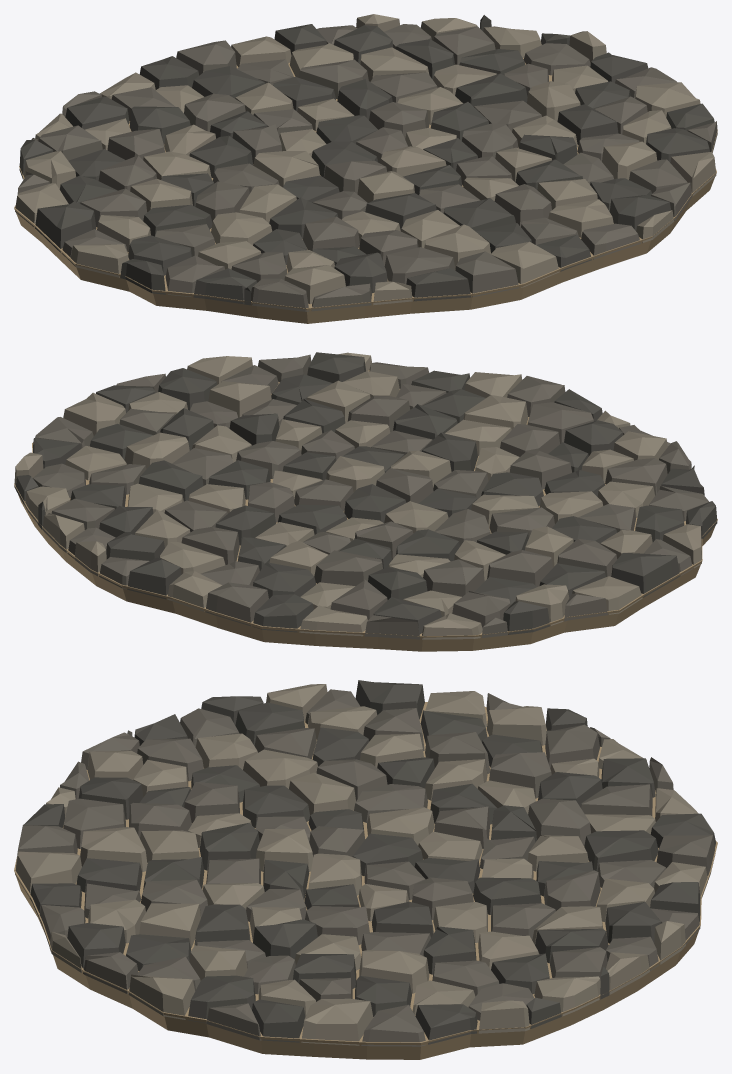
3 views of the same model, one above another, from view 1: azimuth 30°, elevation 25°; view 2: azimuth 150°, elevation 25°; view 3: azimuth 270°, elevation 25° (orthographic). The views are drawn at different scales.
Visible parts, largest first — view 1: densely_fitted_original_angular_clasts.002, densely_fitted_original_angular_clasts, densely_fitted_original_angular_clasts.001, thin_closed_sandy_substrate; view 2: densely_fitted_original_angular_clasts.002, densely_fitted_original_angular_clasts, densely_fitted_original_angular_clasts.001, thin_closed_sandy_substrate; view 3: densely_fitted_original_angular_clasts.001, densely_fitted_original_angular_clasts.002, densely_fitted_original_angular_clasts, thin_closed_sandy_substrate.
Boxes of the visible parts, box(x1,y1,x2,y2) form: densely_fitted_original_angular_clasts.002: box(19, 15, 714, 305); densely_fitted_original_angular_clasts: box(17, 24, 717, 311); densely_fitted_original_angular_clasts.001: box(15, 14, 716, 305); thin_closed_sandy_substrate: box(14, 58, 717, 323); densely_fitted_original_angular_clasts.002: box(15, 352, 717, 634); densely_fitted_original_angular_clasts: box(33, 354, 709, 639); densely_fitted_original_angular_clasts.001: box(14, 352, 701, 639); thin_closed_sandy_substrate: box(14, 370, 717, 651); densely_fitted_original_angular_clasts.001: box(15, 684, 707, 1045); densely_fitted_original_angular_clasts.002: box(24, 680, 715, 1044); densely_fitted_original_angular_clasts: box(16, 689, 715, 1046); thin_closed_sandy_substrate: box(14, 702, 717, 1059).
Bounding box in the file's own units: 4.72 × 0.3096 × 4.06.
